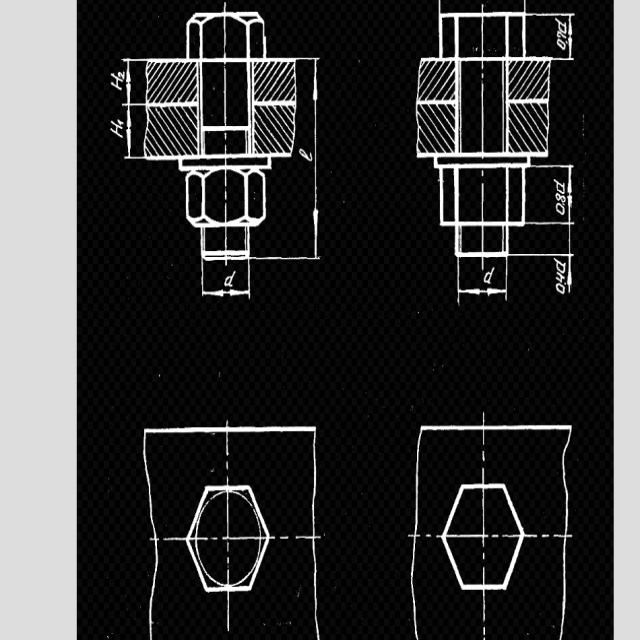marking_line: (297, 58, 321, 266), (509, 226, 573, 297), (526, 165, 576, 227), (456, 259, 507, 302), (200, 261, 251, 297), (119, 102, 143, 160), (551, 12, 576, 62), (119, 57, 144, 106)
numeric: (109, 75, 124, 91), (553, 16, 567, 33), (223, 270, 236, 288), (552, 177, 565, 195), (483, 266, 495, 285), (553, 256, 566, 273), (111, 121, 122, 138), (299, 149, 313, 162), (555, 272, 566, 284), (556, 202, 566, 215), (556, 284, 568, 294), (556, 31, 567, 41), (557, 39, 565, 51), (555, 192, 565, 201), (117, 69, 124, 78), (119, 121, 125, 127)
special_symbol: (339, 199, 355, 215), (210, 84, 217, 94), (251, 190, 255, 201), (208, 113, 214, 119), (565, 40, 569, 45), (562, 203, 565, 206)
